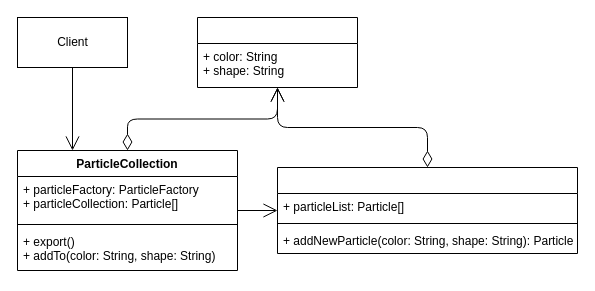
Image size: 595x291. Some labels were removed from this diagram. Here are the shapes that lost their labels. From the top down, the box of each, then its label:
(196, 16, 358, 88): Particle
(276, 166, 578, 254): ParticleFactory
